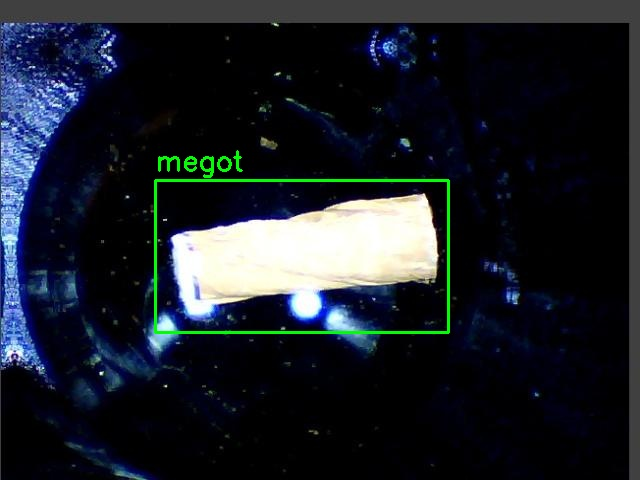megot: (155, 180, 448, 332)
